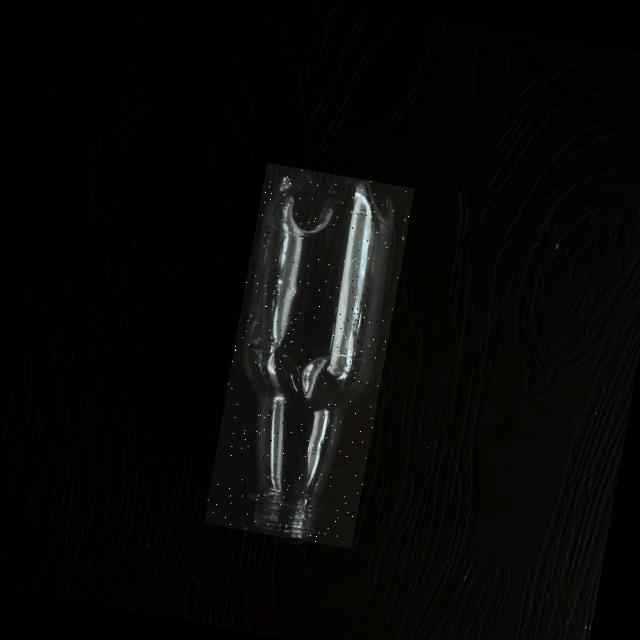PET_ClearBottle: (203, 162, 414, 548)
